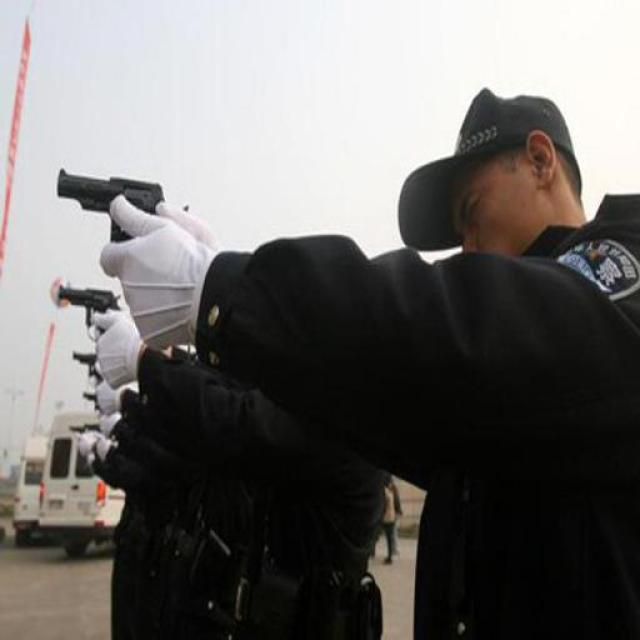pistol: (57, 166, 190, 245), (55, 278, 125, 336), (70, 347, 106, 387), (79, 392, 101, 411), (81, 421, 97, 435)
